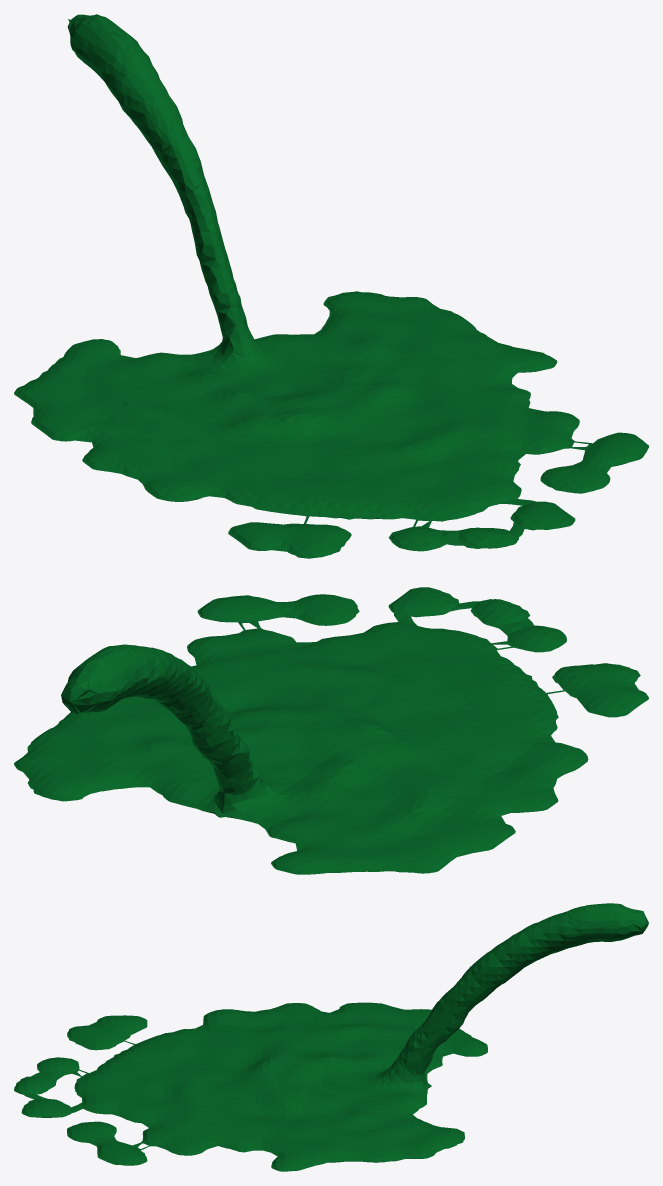
Rendered from fluid_11.fbx.
The picture shows the model from 3 angles, top to bottom: view 1: azimuth 30°, elevation 25°; view 2: azimuth 150°, elevation 25°; view 3: azimuth 270°, elevation 25°; orthographic projection. The views are drawn at different scales.
Visible parts, largest first — view 1: Cube; view 2: Cube; view 3: Cube.
Part boxes in pixels (<box>): Cube: <box>14,14,648,558</box>; Cube: <box>14,587,648,874</box>; Cube: <box>14,903,648,1171</box>.
Size of the model in its own units: 345 by 177 by 550.
